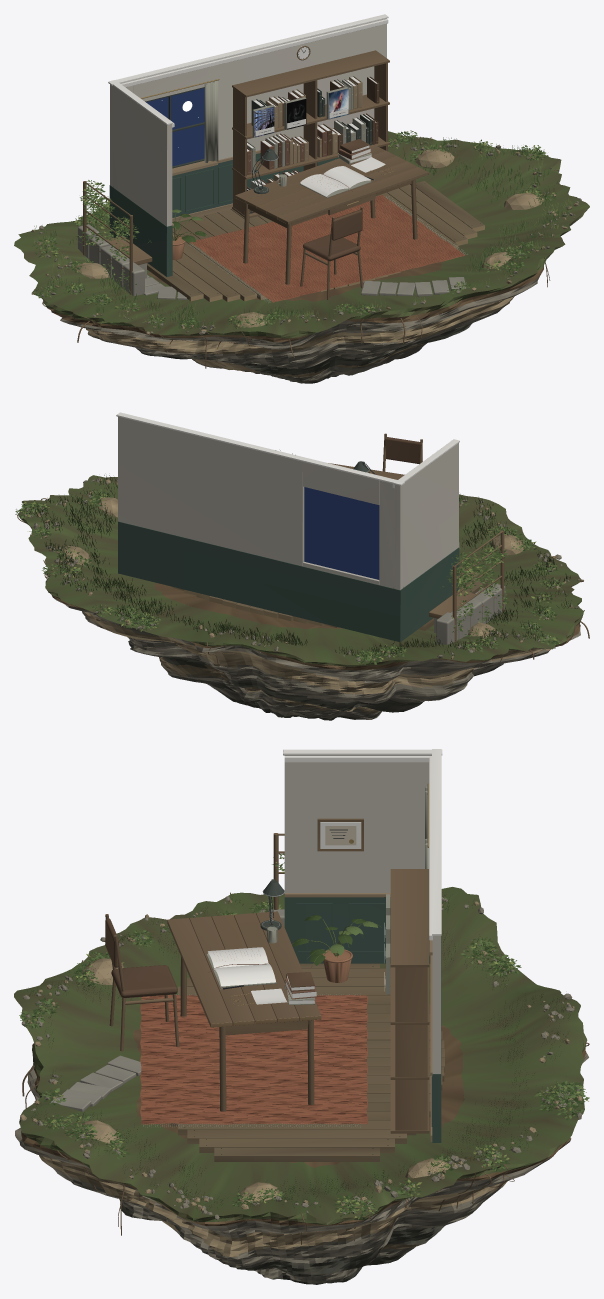
Rendered from orbit-writing-65f4fb97.glb.
The picture shows the model from 3 angles, top to bottom: view 1: azimuth 30°, elevation 25°; view 2: azimuth 150°, elevation 25°; view 3: azimuth 270°, elevation 25°; orthographic projection. The views are drawn at different scales.
Parts seen in each view (by area): view 1: Writing island · browser materials; view 2: Writing island · browser materials; view 3: Writing island · browser materials.
Boxes of the visible parts, x1,y1,x2,y2 form: Writing island · browser materials: (14,14,589,383); Writing island · browser materials: (15,412,589,720); Writing island · browser materials: (14,749,589,1284).
Size of the model in its own units: 11.74 by 6.45 by 8.17.
34 materials, 3 textured.
